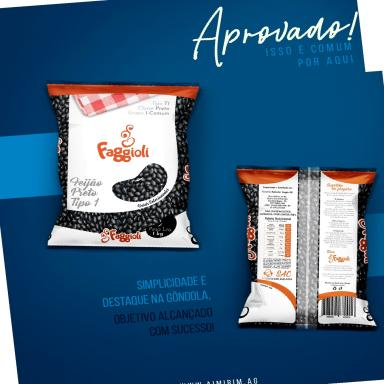beans package: (48, 85, 198, 247), (238, 168, 375, 330)
